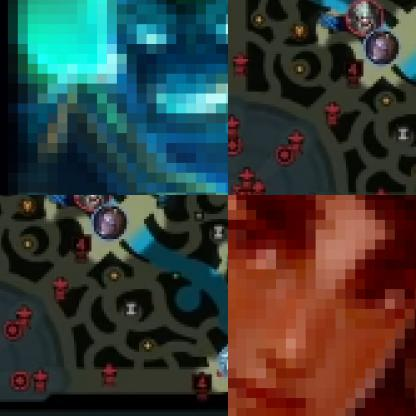Hecarim: (0, 0, 227, 194)
Orianna: (92, 204, 128, 240), (364, 30, 400, 64)
Taliyah: (228, 195, 415, 415)
Tryndamere: (346, 0, 385, 38), (74, 195, 113, 213)
Viego: (217, 344, 227, 380)
